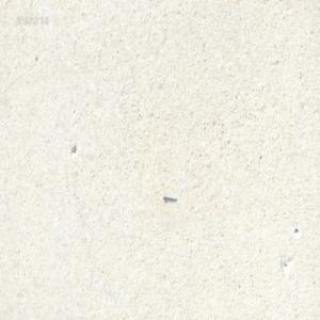Nailtrack_idkeyframe: (162, 190, 176, 200)
